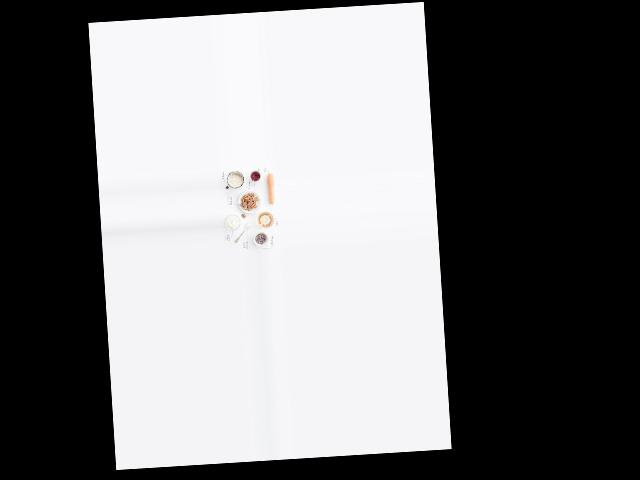carrot: (262, 170, 276, 208)
